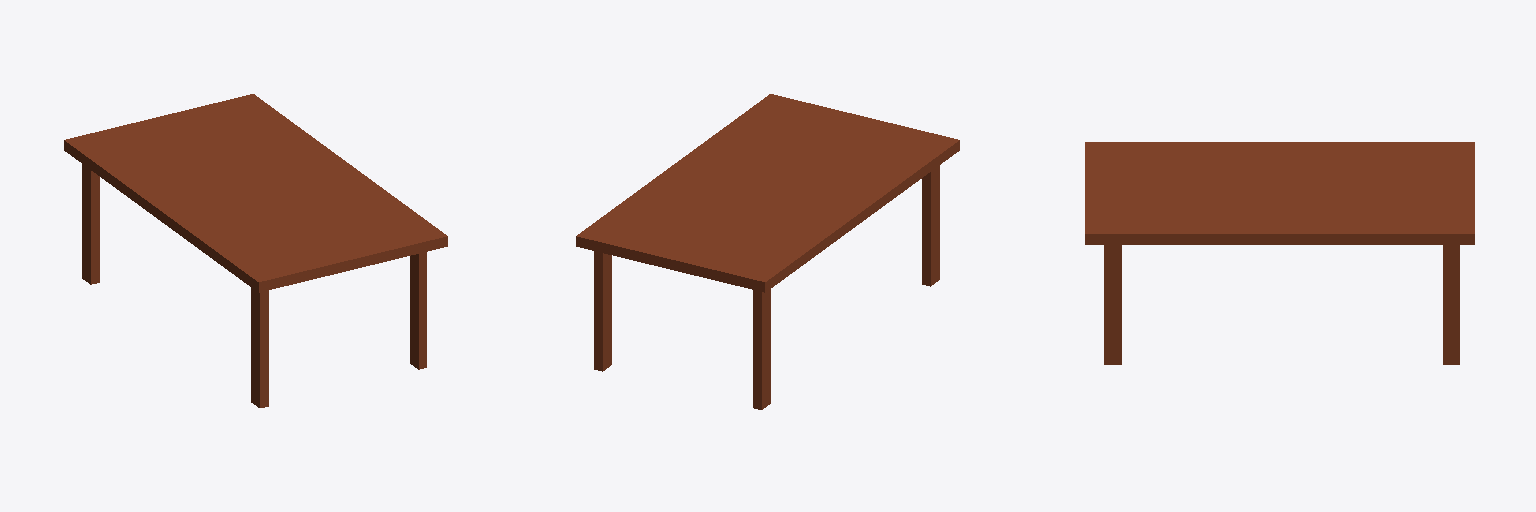
The picture shows the model from 3 angles: view 1: azimuth 30°, elevation 25°; view 2: azimuth 150°, elevation 25°; view 3: azimuth 270°, elevation 25°; orthographic projection.
Visible parts, largest first — view 1: table:Mesh; view 2: table:Mesh; view 3: table:Mesh.
Boxes of the visible parts, box(x1,y1,x2,y2) form: table:Mesh: box(64, 94, 447, 407); table:Mesh: box(576, 94, 959, 409); table:Mesh: box(1085, 142, 1474, 364).
Size of the model in its own units: 1.13 by 0.7758 by 2.02.
Materials: 1 (1 with a texture image).